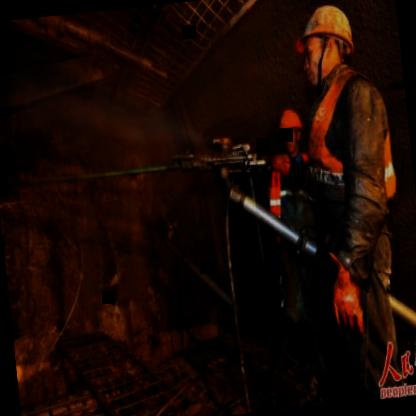helmet: (292, 0, 366, 87), (274, 102, 305, 154)
